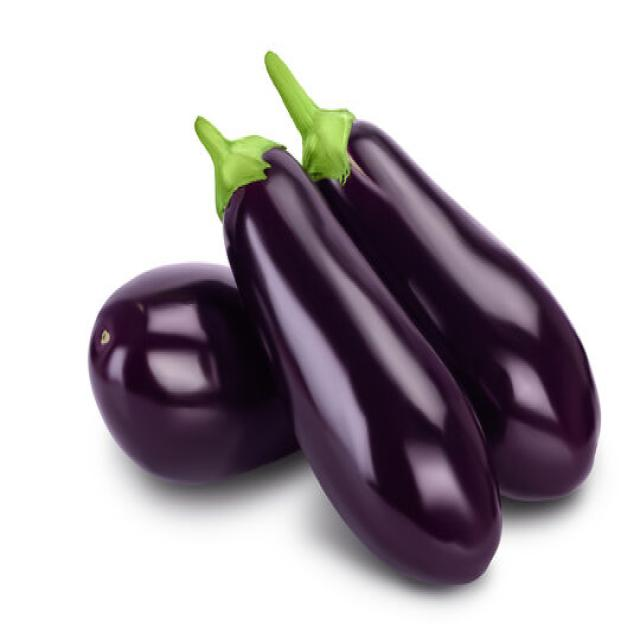Eggplant: (262, 48, 601, 501), (193, 112, 503, 585), (86, 260, 300, 486)
